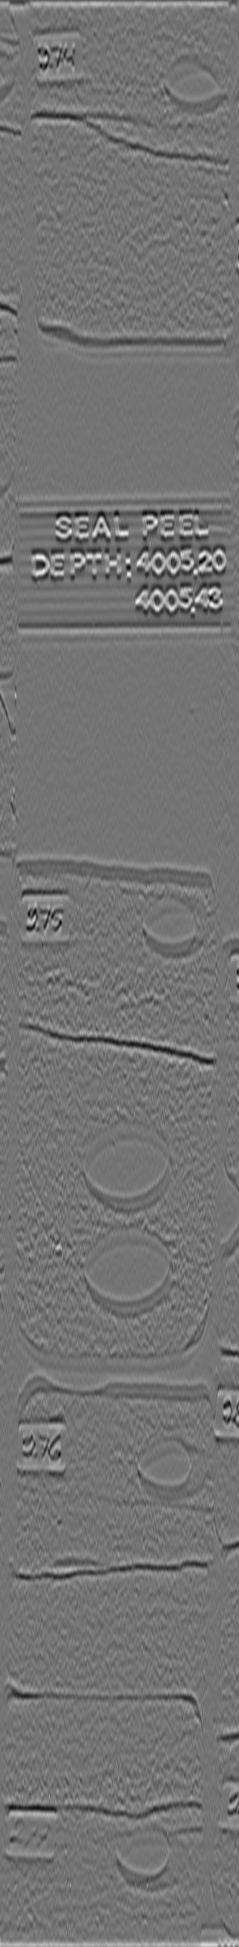hplug: (136, 884, 217, 962), (110, 1822, 192, 1896), (128, 1432, 214, 1502), (156, 46, 232, 115)
scal: (76, 1116, 182, 1216), (78, 1221, 180, 1317)
vplug: (44, 1392, 119, 1568)
